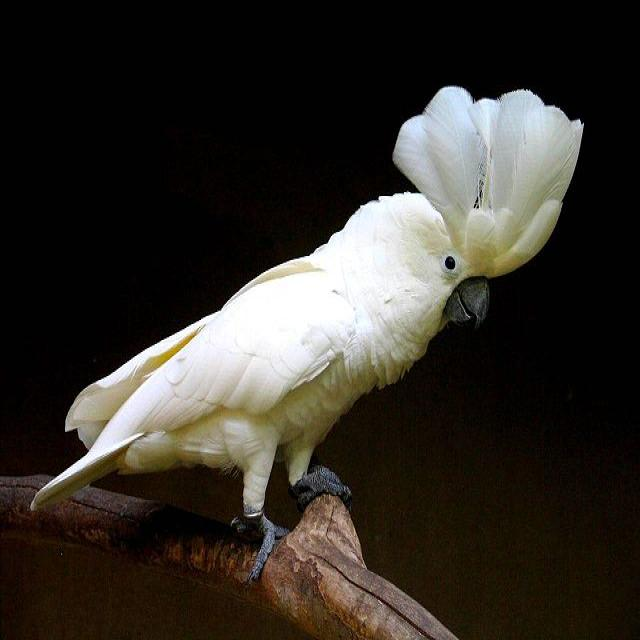Kakatua Putih: (8, 57, 622, 618)
